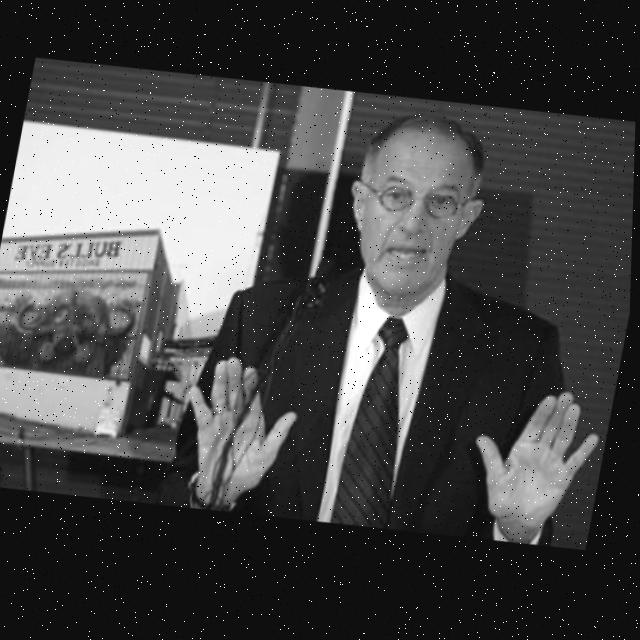face: (339, 118, 487, 300)
